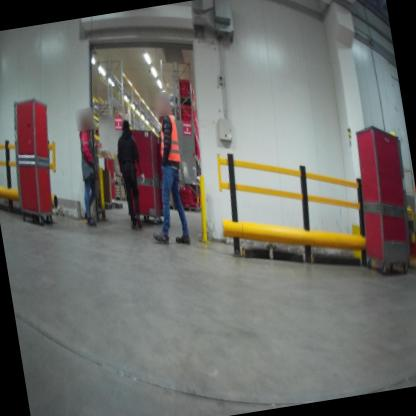pallet: (100, 198, 114, 212), (111, 200, 126, 210)
